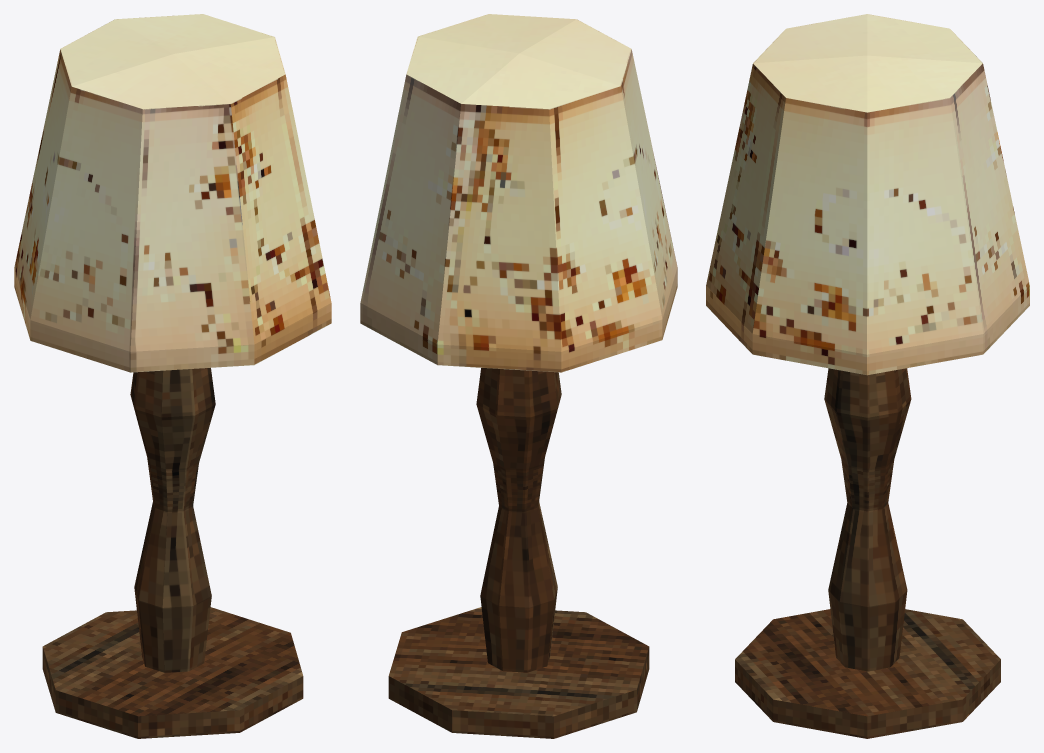
File: lamp_001.fbx
3 views of the same model, side by side, from view 1: azimuth 30°, elevation 25°; view 2: azimuth 150°, elevation 25°; view 3: azimuth 270°, elevation 25° (orthographic).
Parts seen in each view (by area): view 1: lampa.001; view 2: lampa.001; view 3: lampa.001.
Part boxes in pixels (x1,y1,x2,y2): lampa.001: (14,14,331,738); lampa.001: (360,14,677,738); lampa.001: (706,14,1029,738).
Bounding box in the file's own units: 29.25 × 61.57 × 28.84.
